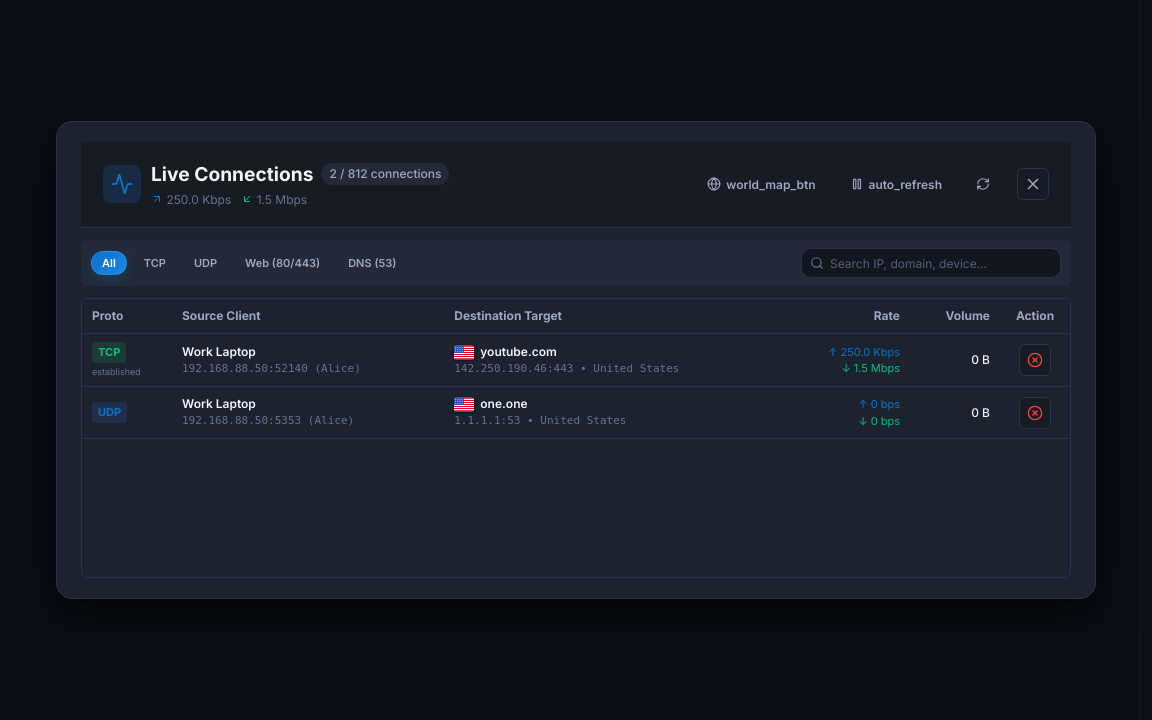
Scenario: LiveConnectionsModal truncation and error handling › drops the "/ total" once a client-side filter narrows the visible rows
Check: the text "youtube.com" is shown, box [480,343,557,361]
Type "youtube" into the field with placeholder "Search IP, domain, device...".
click(931, 263); type("youtube")  # box [801,248,1061,278]
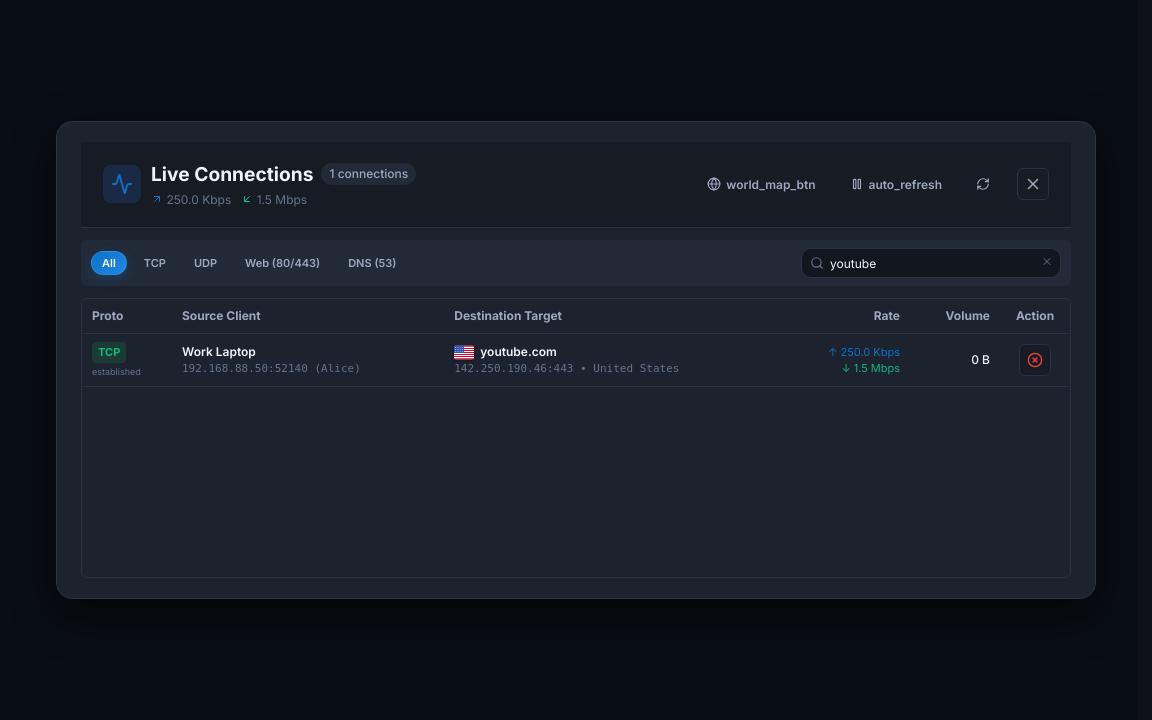
Check: the text "1 connections" is shown, box [322,163,416,185]
Check: the text "/ 812" is gone
